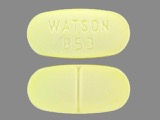Acetaminophen 325 MG Oral Tablet: (24, 6, 132, 60), (24, 64, 133, 115)
